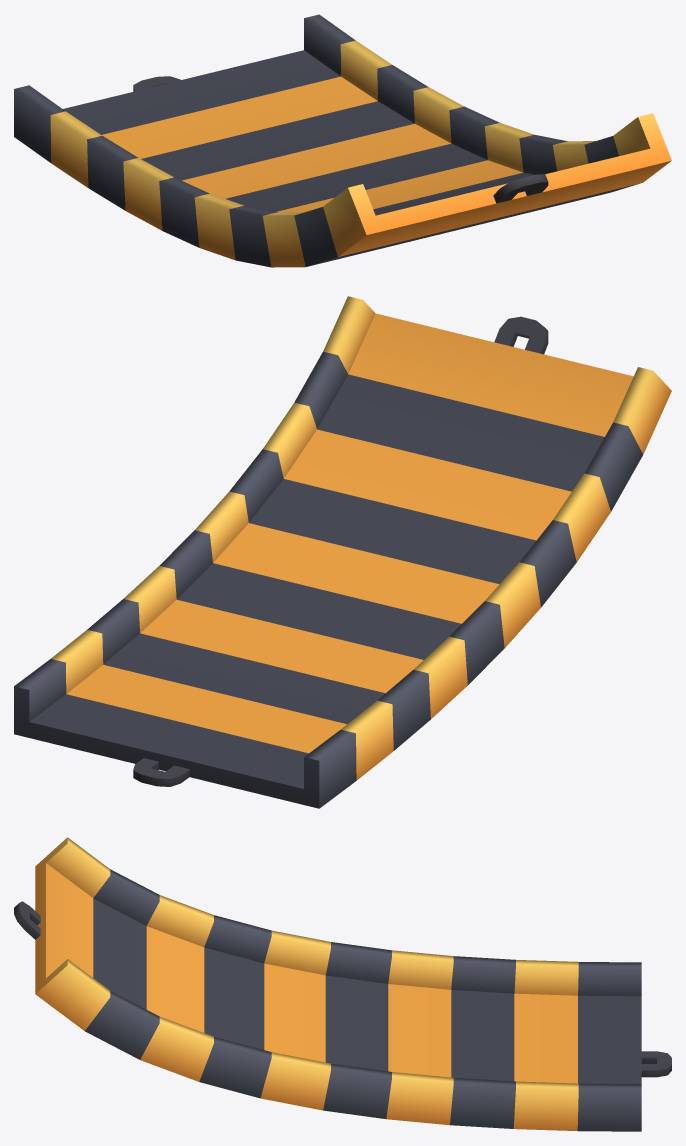
Rendered from track-striped-wide-straight-hill-beginning.fbx.
3 views of the same model, one above another, from view 1: azimuth 30°, elevation 25°; view 2: azimuth 150°, elevation 25°; view 3: azimuth 270°, elevation 25° (orthographic). The views are drawn at different scales.
Parts seen in each view (by area): view 1: track-striped-wide-straight-hill-beginning; view 2: track-striped-wide-straight-hill-beginning; view 3: track-striped-wide-straight-hill-beginning.
Boxes of the visible parts, x1,y1,x2,y2 form: track-striped-wide-straight-hill-beginning: (14,14,671,267); track-striped-wide-straight-hill-beginning: (14,296,671,808); track-striped-wide-straight-hill-beginning: (14,837,671,1131).
Bounding box in the file's own units: 200 × 121 × 434.
